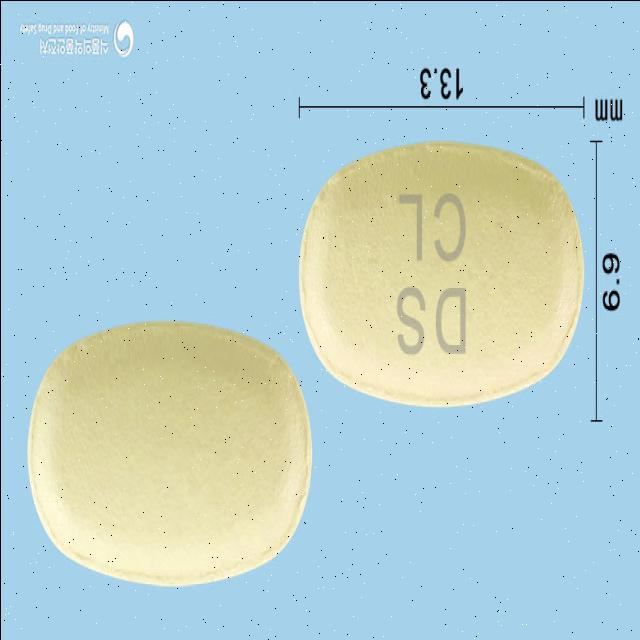Heracin: (297, 140, 583, 411)
